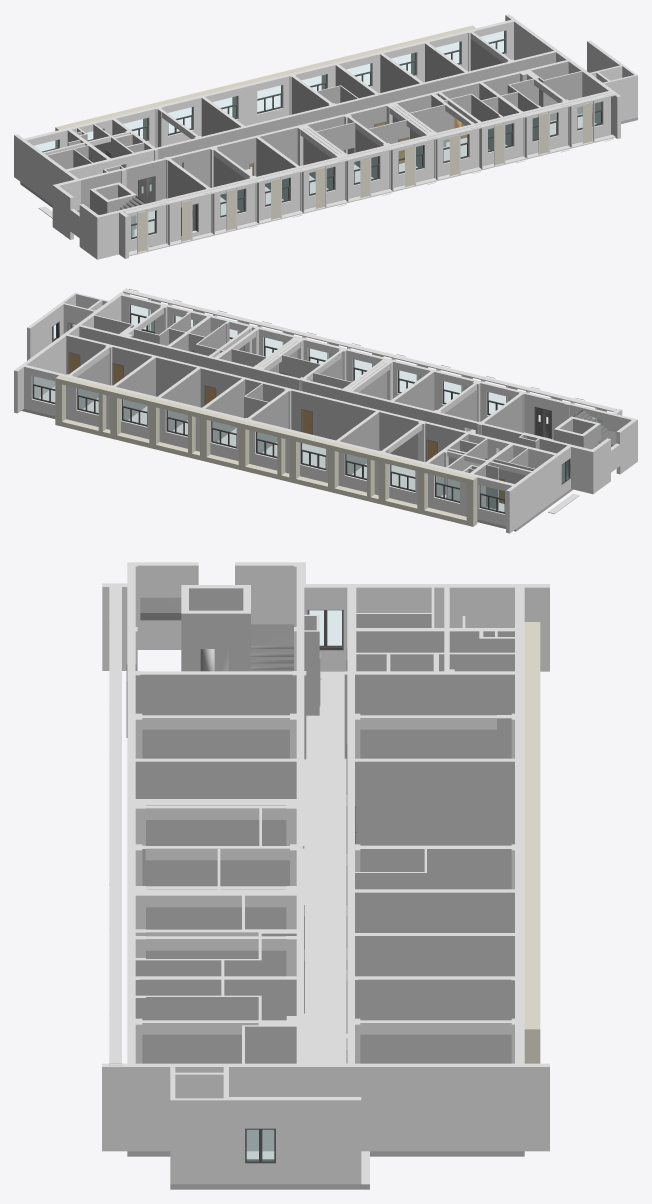
The picture shows the model from 3 angles, top to bottom: view 1: azimuth 30°, elevation 25°; view 2: azimuth 150°, elevation 25°; view 3: azimuth 270°, elevation 25°; orthographic projection. The views are drawn at different scales.
Parts seen in each view (by area): view 1: 矩形钢管_杆件_30x30x5__2254319__1; view 2: 矩形钢管_杆件_30x30x5__2254319__1; view 3: 矩形钢管_杆件_30x30x5__2254319__1.
Boxes of the visible parts, <box> form: 矩形钢管_杆件_30x30x5__2254319__1: <box>14,14,637,259</box>; 矩形钢管_杆件_30x30x5__2254319__1: <box>14,288,637,533</box>; 矩形钢管_杆件_30x30x5__2254319__1: <box>102,562,549,1189</box>.
Bounding box in the file's own units: 49440 × 4290 × 17380.
